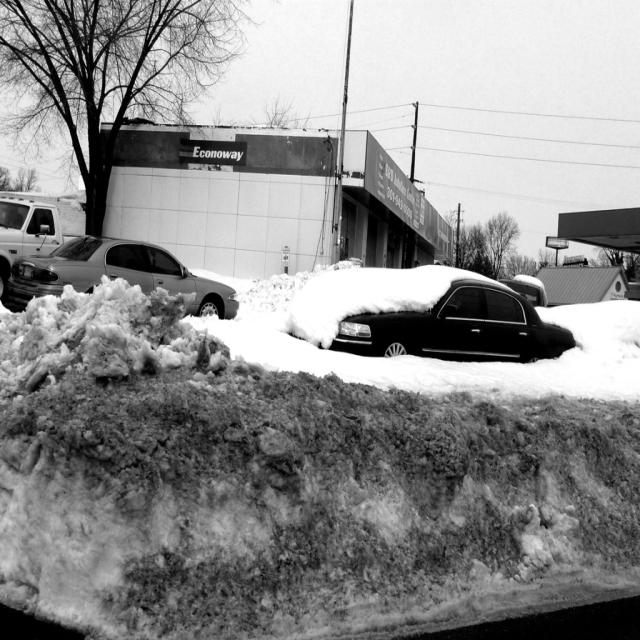car: (51, 225, 230, 309)
